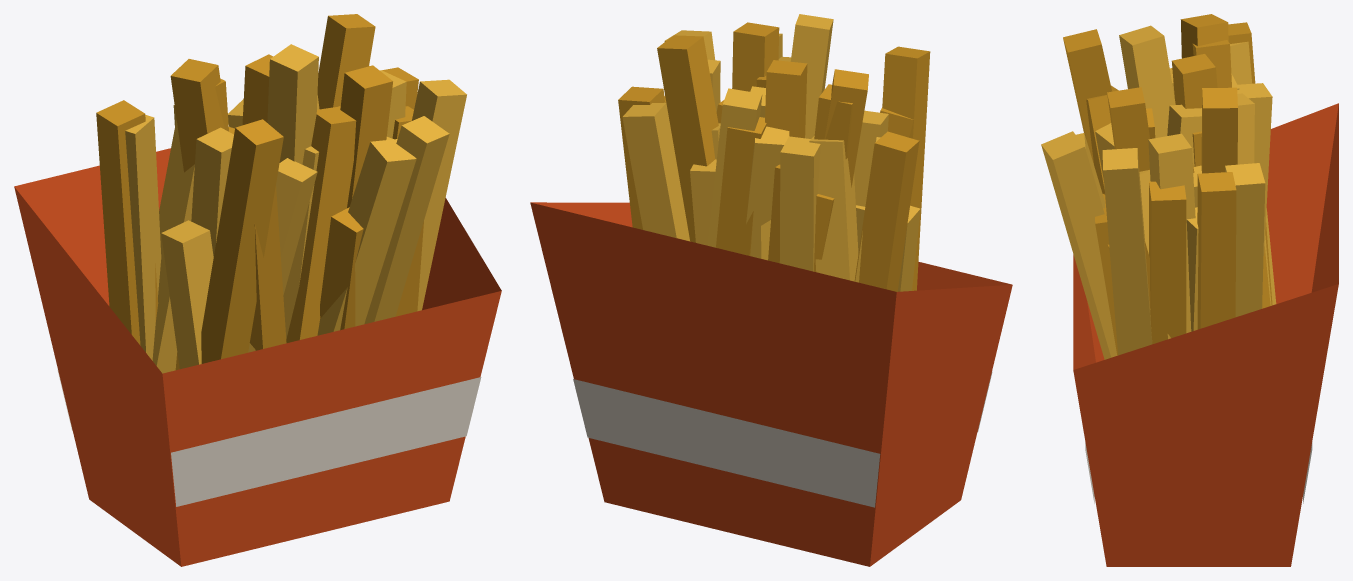
Rendered from batata-frita.glb.
3 renders of one model, left to right at view 1: azimuth 30°, elevation 25°; view 2: azimuth 150°, elevation 25°; view 3: azimuth 270°, elevation 25°, orthographic.
Visible parts, largest first — view 1: batata-frita; view 2: batata-frita; view 3: batata-frita.
Part boxes in pixels (x1=…): batata-frita: x1=14, y1=14, x2=501, y2=566; batata-frita: x1=530, y1=14, x2=1012, y2=566; batata-frita: x1=1041, y1=14, x2=1338, y2=566.
Bounding box in the file's own units: 0.116 × 0.14 × 0.0808.
